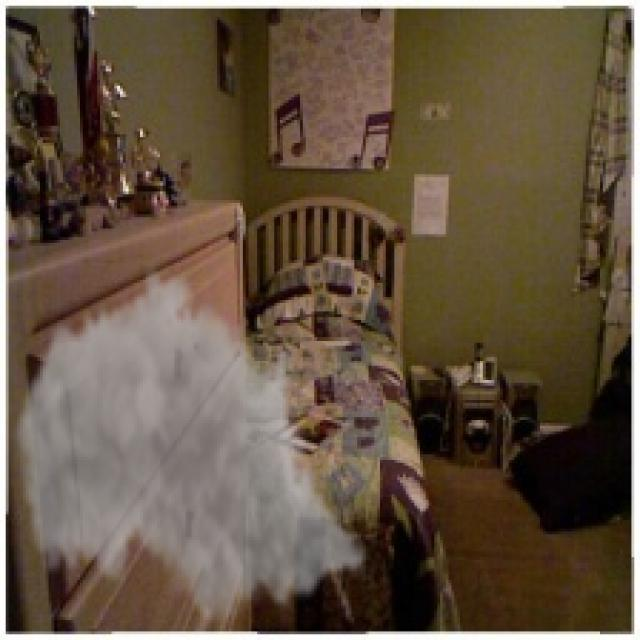smoke: (11, 260, 372, 634)
